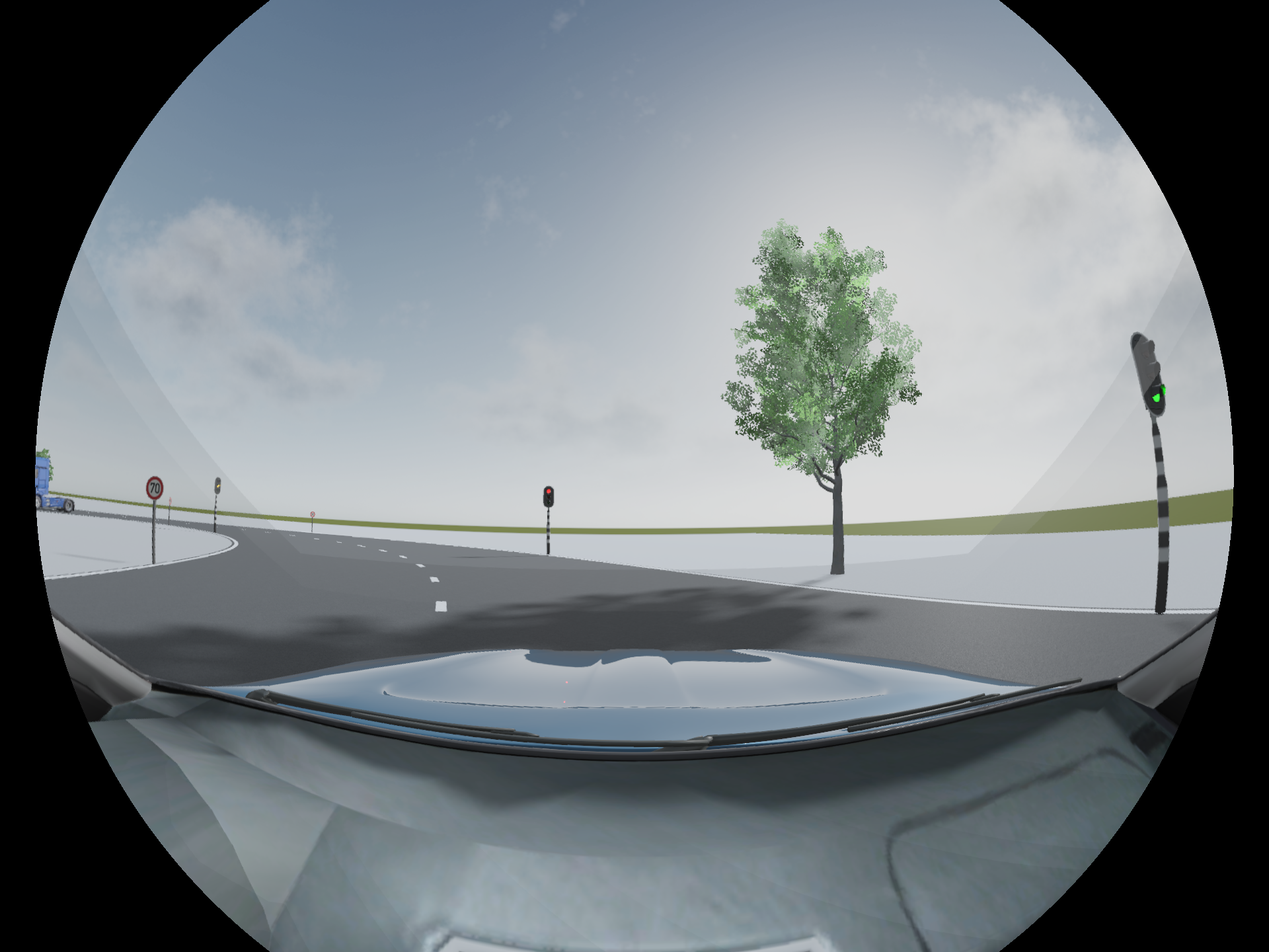Speed Limit 70: (147, 475, 164, 499)
